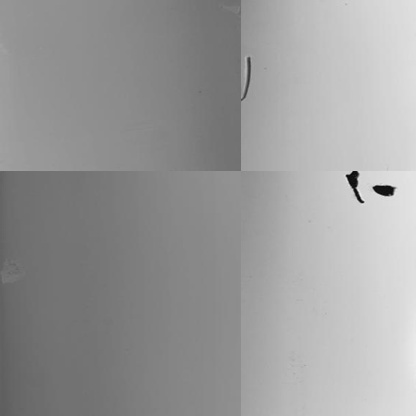fengxi: (237, 57, 252, 109)
kongdong: (340, 167, 397, 202)
